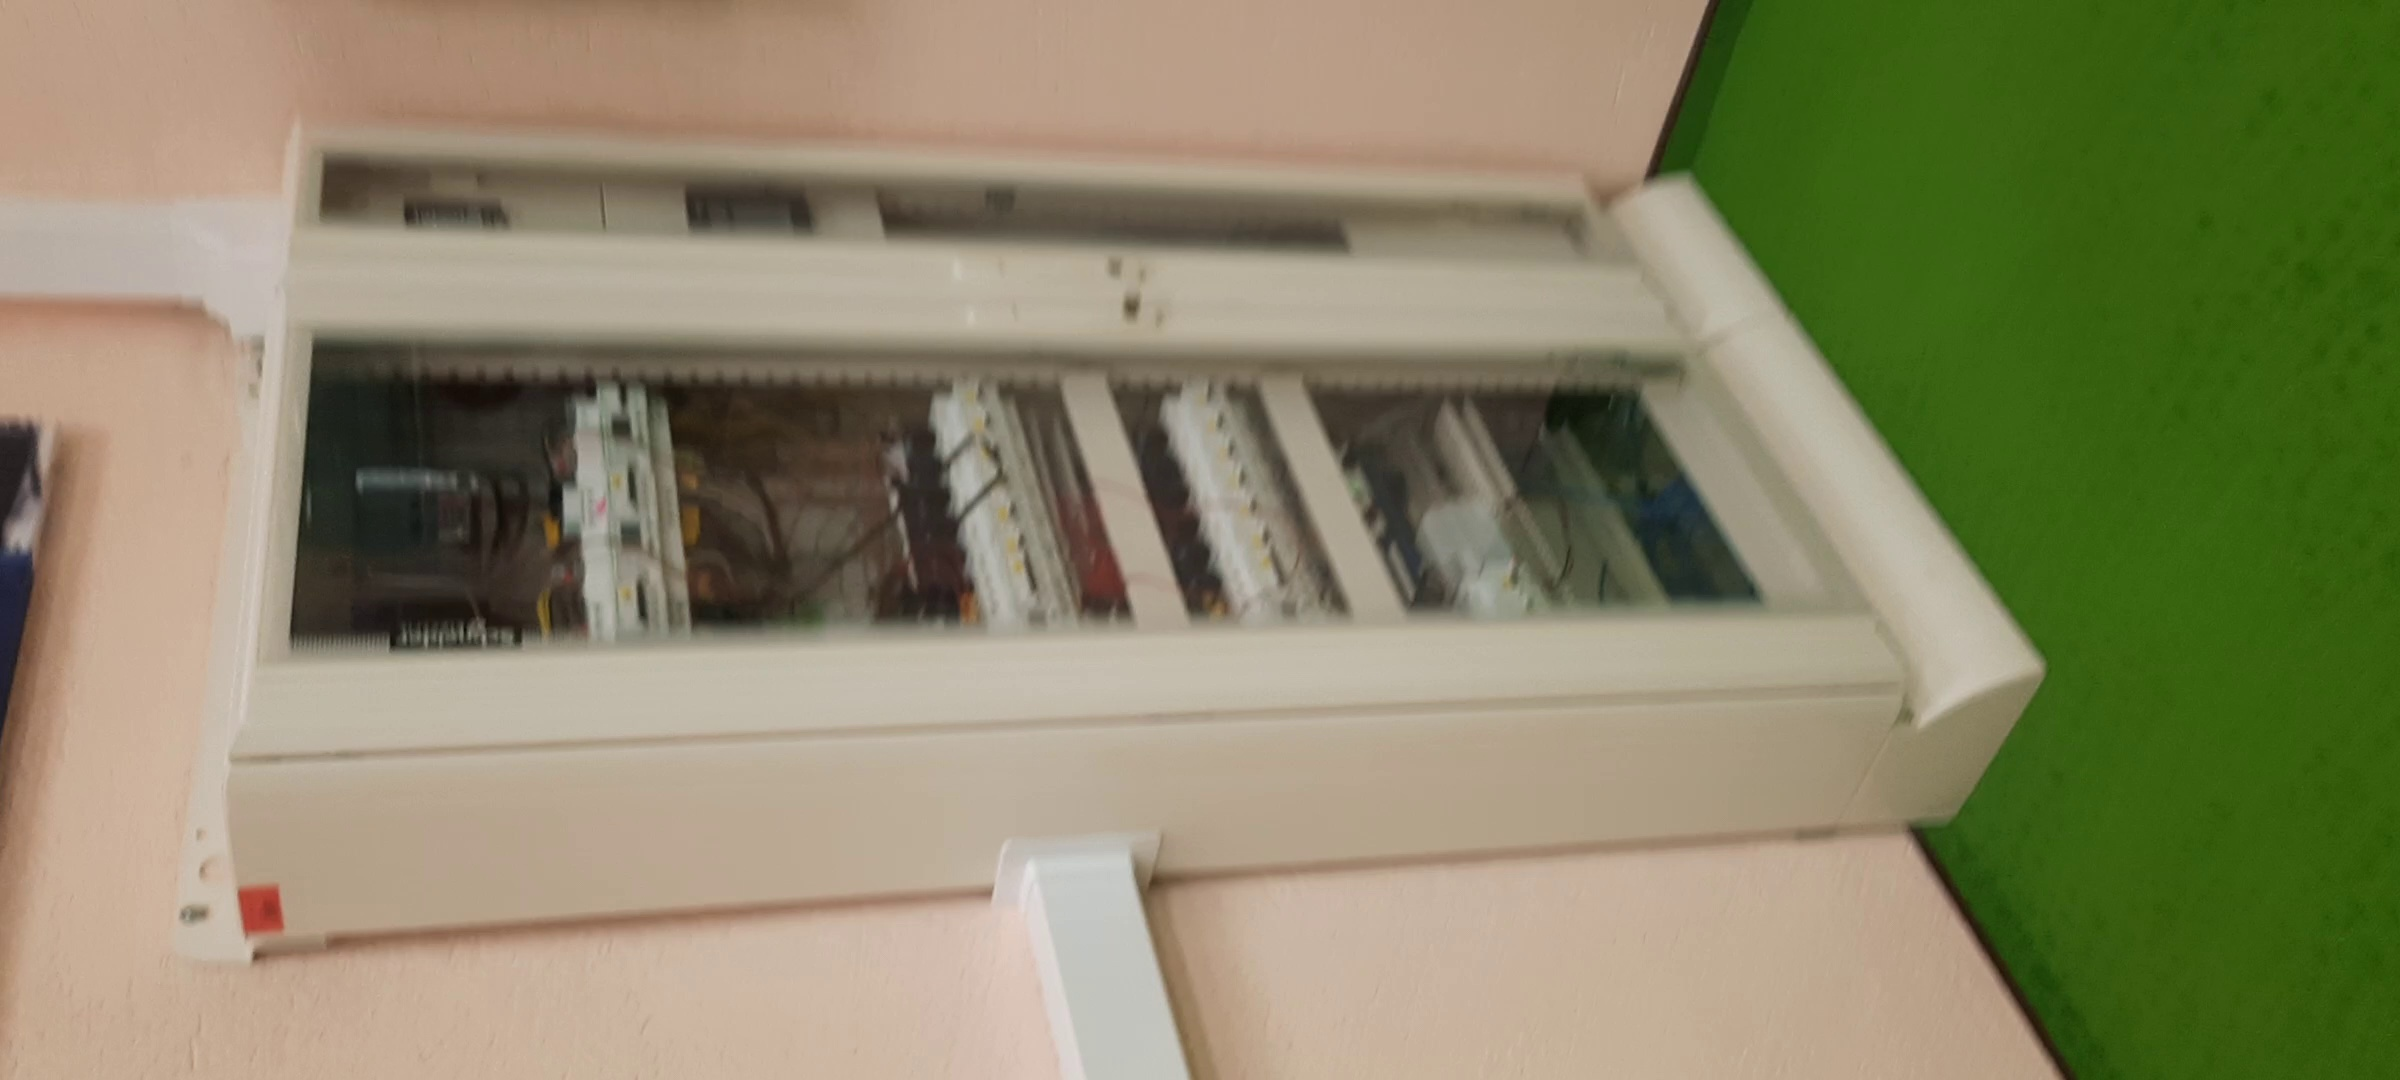stand1: (217, 142, 1965, 939)
